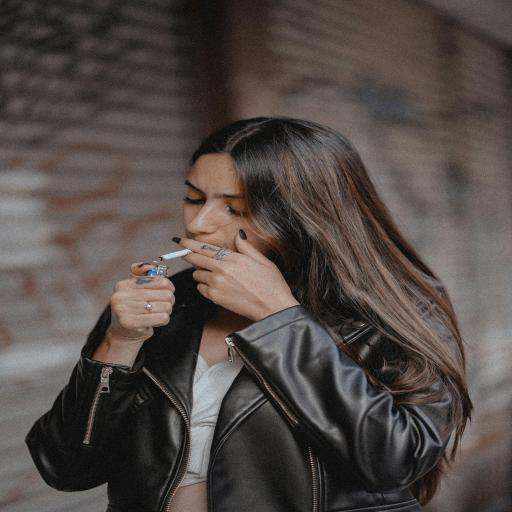terdeteksi merokok: (132, 170, 254, 288)
